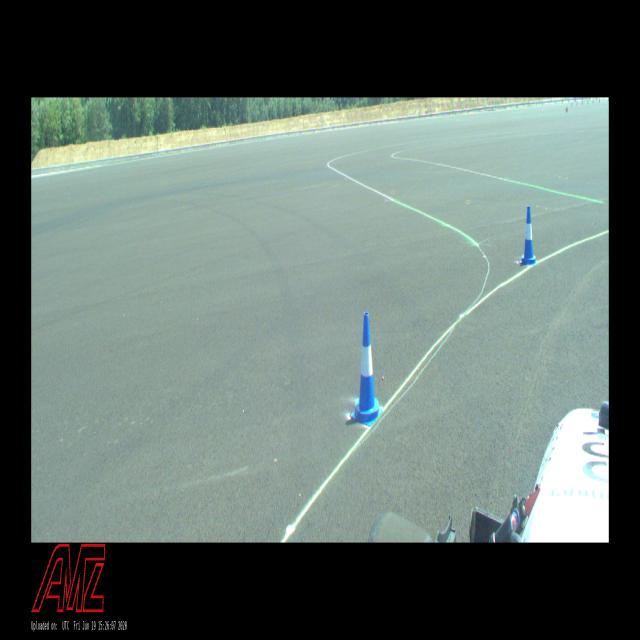blue_cone: (350, 312, 382, 427), (519, 206, 537, 266)
